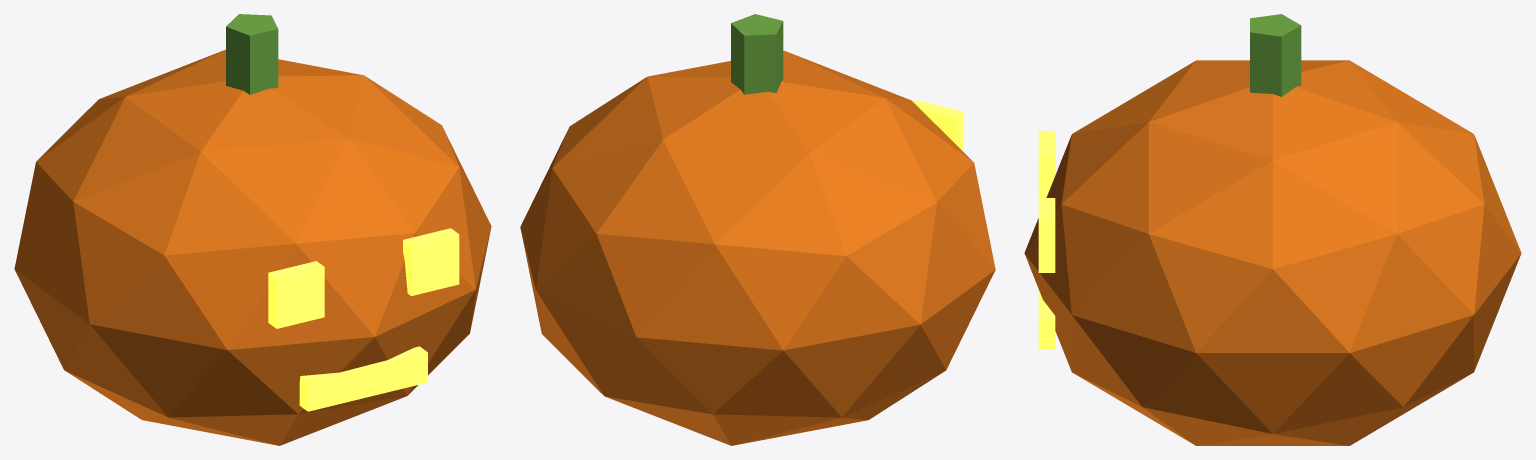
The model's file is jack_o_lantern.glb.
The picture shows the model from 3 angles, left to right: view 1: azimuth 30°, elevation 25°; view 2: azimuth 150°, elevation 25°; view 3: azimuth 270°, elevation 25°; orthographic projection. The views are drawn at different scales.
Visible parts, largest first — view 1: jack_o_lantern; view 2: jack_o_lantern; view 3: jack_o_lantern.
Boxes of the visible parts, bbox=[...] form: jack_o_lantern: bbox=[14, 14, 491, 445]; jack_o_lantern: bbox=[520, 14, 995, 445]; jack_o_lantern: bbox=[1024, 14, 1521, 445].
Size of the model in its own units: 0.8369 by 0.785 by 0.88.
